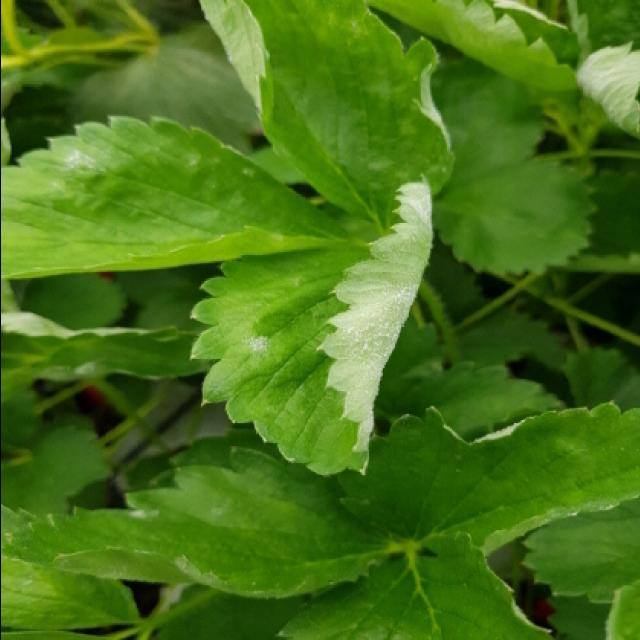Powdery Mildew Leaf: (190, 175, 434, 476), (2, 114, 360, 282), (336, 400, 640, 555)
